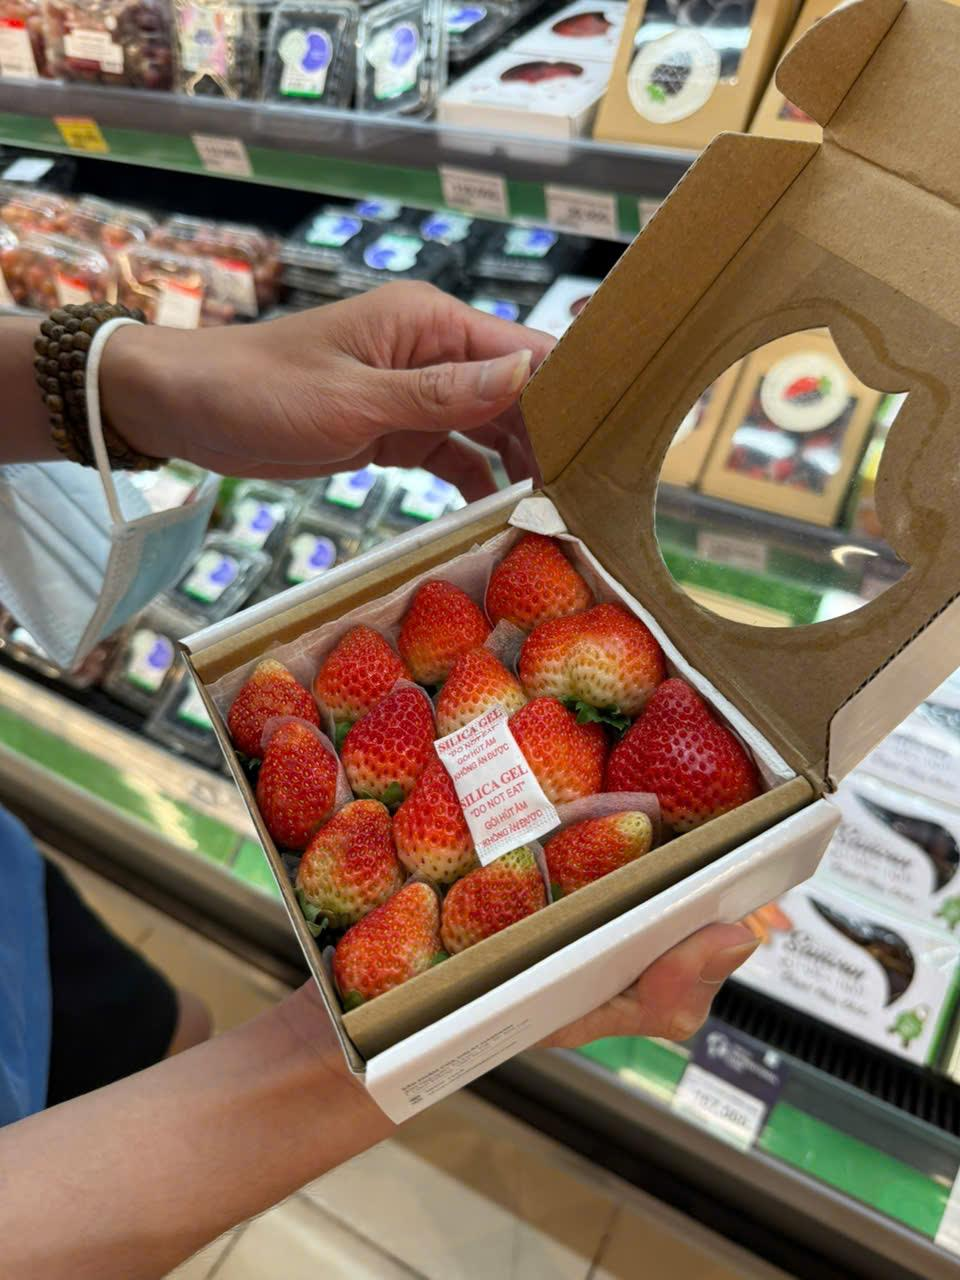strawberry: (597, 668, 758, 828), (280, 786, 404, 914), (520, 606, 656, 714), (330, 876, 442, 1004), (255, 730, 350, 834), (440, 856, 554, 940), (480, 530, 590, 606), (313, 618, 398, 716), (352, 683, 434, 784), (222, 656, 316, 742), (400, 578, 482, 670), (542, 816, 652, 882)
